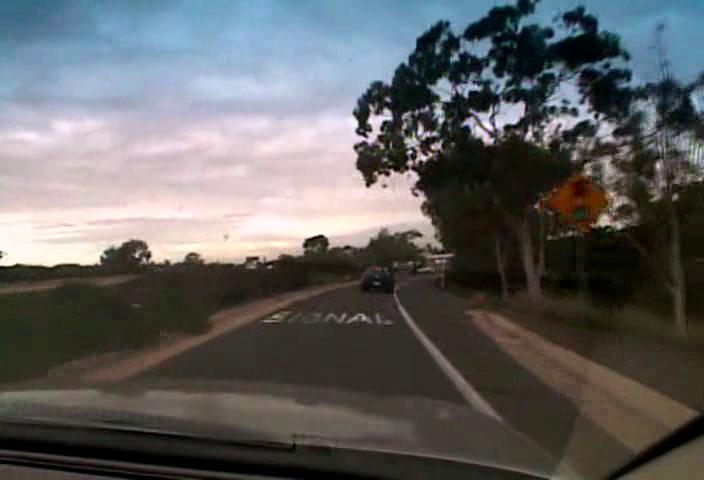signalAhead: (546, 169, 610, 232)
